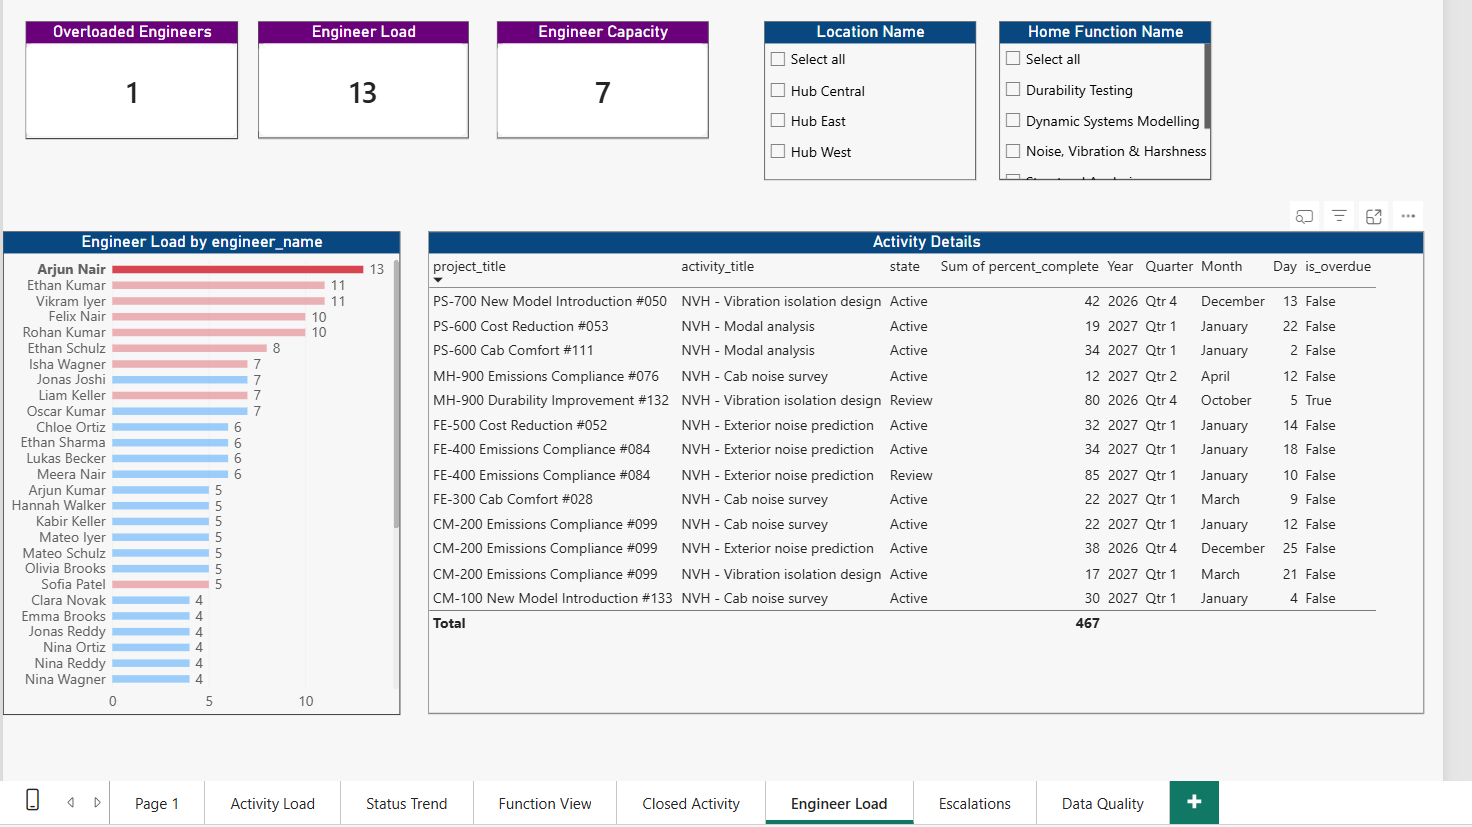

What the dashboard file says about the page in this screenshot:
{"tool":"powerbi","page":{"name":"Engineer Load","canvas":[1920,1080],"ordinal":5},"visuals":[{"type":"slicer","title":"Home Function Name","fields":{"Values":["dim_engineer.home_function_name"]},"box":[1328,48,282.5,211.4],"z":0},{"type":"slicer","title":"Location Name","fields":{"Values":["dim_engineer.location_name"]},"box":[1014.8,48,282,212],"z":1},{"type":"cardVisual","title":"Overloaded Engineers","fields":{"Data":["_Measures.Overloaded Engineers"]},"box":[29.4,48.4,283.4,156.4],"z":2},{"type":"cardVisual","title":"Engineer Load","fields":{"Data":["_Measures.Engineer Load"]},"box":[340.8,48.4,280.6,155.7],"z":3},{"type":"cardVisual","title":"Engineer Capacity","fields":{"Data":["_Measures.Engineer Capacity"]},"box":[657.9,48.4,282.5,155.7],"z":4},{"type":"clusteredBarChart","fields":{"Category":["dim_engineer.engineer_name"],"Y":["_Measures.Engineer Load"]},"box":[0,328.3,529.4,645.2],"z":5},{"type":"tableEx","title":"Activity Details","fields":{"Values":["dim_project.project_title","fact_activity.activity_title","dim_state.state","Sum(fact_activity.percent_complete)","fact_activity.deadline_date.Variation.Date Hierarchy.Year","fact_activity.deadline_date.Variation.Date Hierarchy.Quarter","fact_activity.deadline_date.Variation.Date Hierarchy.Month","fact_activity.deadline_date.Variation.Date Hierarchy.Day","fact_activity.is_overdue"]},"box":[567.4,328.3,1328.3,643.3],"z":6}]}

Visuals, with their boxes on the page's 1920x1080 design canvas (x1, y1, x2, y2). These are canvas units, not pixel positions in the 1472x827 screenshot, which may show the page scaled, cropped or inside an application window:
"Home Function Name" slicer: bbox=(1328, 48, 1610, 259)
"Location Name" slicer: bbox=(1015, 48, 1297, 260)
"Overloaded Engineers" cardVisual: bbox=(29, 48, 313, 205)
"Engineer Load" cardVisual: bbox=(341, 48, 621, 204)
"Engineer Capacity" cardVisual: bbox=(658, 48, 940, 204)
clusteredBarChart - dim_engineer.engineer_name x _Measures.Engineer Load: bbox=(0, 328, 529, 974)
"Activity Details" tableEx: bbox=(567, 328, 1896, 972)
